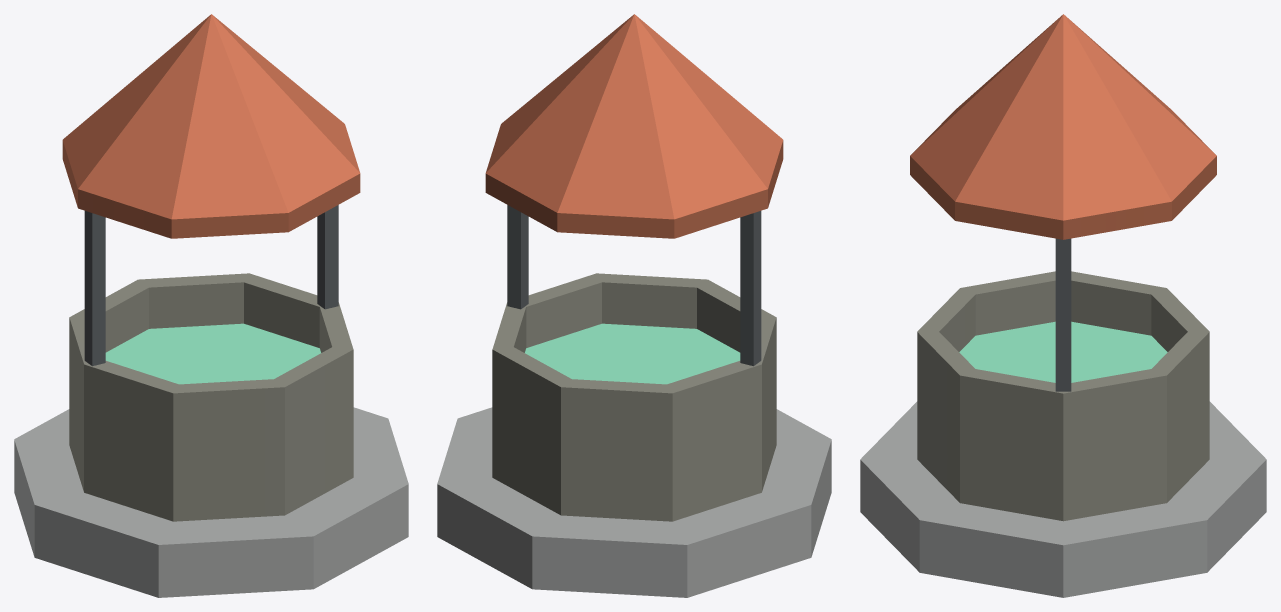
File: Well.fbx
3 renders of one model, left to right at view 1: azimuth 30°, elevation 25°; view 2: azimuth 150°, elevation 25°; view 3: azimuth 270°, elevation 25°, orthographic.
Visible parts, largest first — view 1: Well; view 2: Well; view 3: Well.
Part boxes in pixels (x1,y1,x2,y2): Well: [14, 14, 408, 597]; Well: [437, 14, 831, 597]; Well: [860, 14, 1266, 597].
Size of the model in its own units: 43.68 by 59.06 by 43.68.
1 material, 1 textured.
